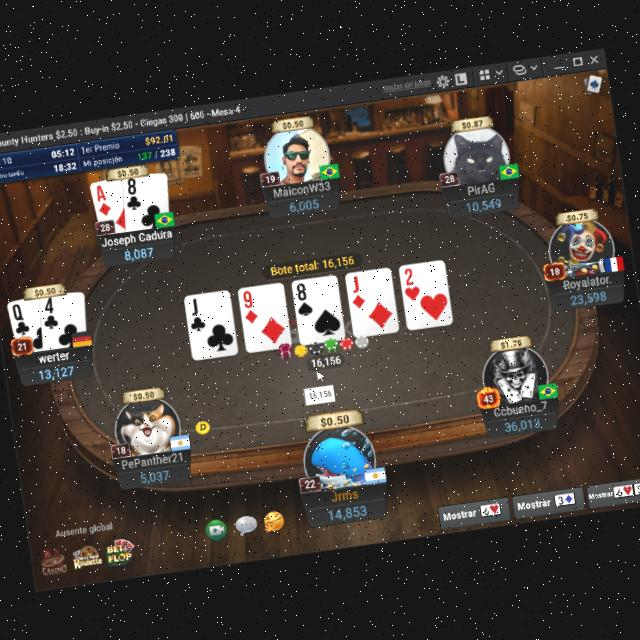2h: (401, 265, 424, 303)
4c: (39, 296, 62, 332)
8c: (122, 176, 144, 213)
8s: (293, 280, 315, 318)
9d: (240, 287, 261, 326)
Ad: (94, 182, 115, 218)
Jc: (187, 294, 210, 334)
Jd: (347, 272, 368, 310)
Qc: (11, 301, 33, 336)
Tc: (11, 300, 34, 336)
dealer: (193, 418, 212, 436)
pot_text: (270, 252, 356, 276)
stack_text: (325, 501, 369, 524), (502, 414, 542, 434), (38, 362, 76, 381), (568, 288, 608, 306), (464, 196, 502, 214), (122, 243, 156, 262), (288, 196, 322, 214), (138, 466, 172, 484)
